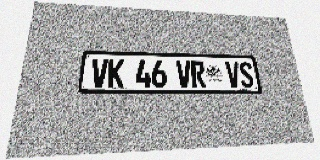4: (136, 60, 151, 88)
6: (152, 60, 167, 88)
K: (107, 59, 124, 88)
R: (190, 61, 206, 88)
S: (238, 62, 255, 88)
V: (90, 59, 108, 88), (176, 60, 192, 88), (225, 62, 242, 88)
